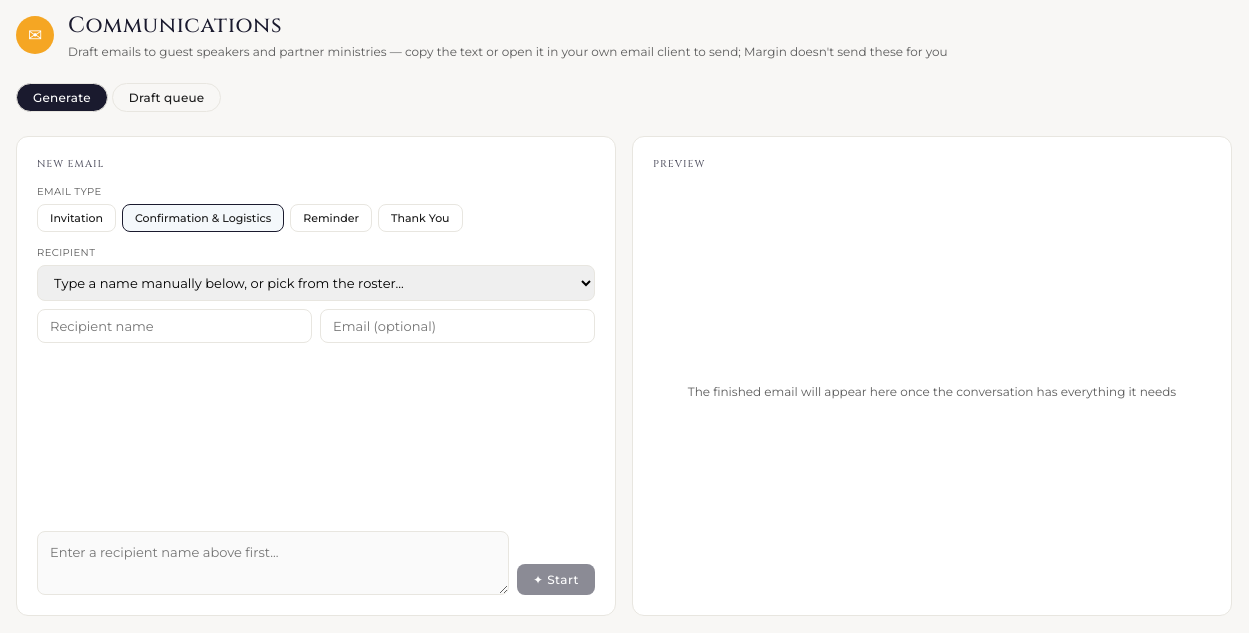
it: picking a person from the roster fills in their name and email
The image size is (1249, 633).
Select "Dr. Robert Rush III — Prophet" in the dropdown "Type a name manually" at (316, 283), box left=37, top=265, right=595, bottom=301
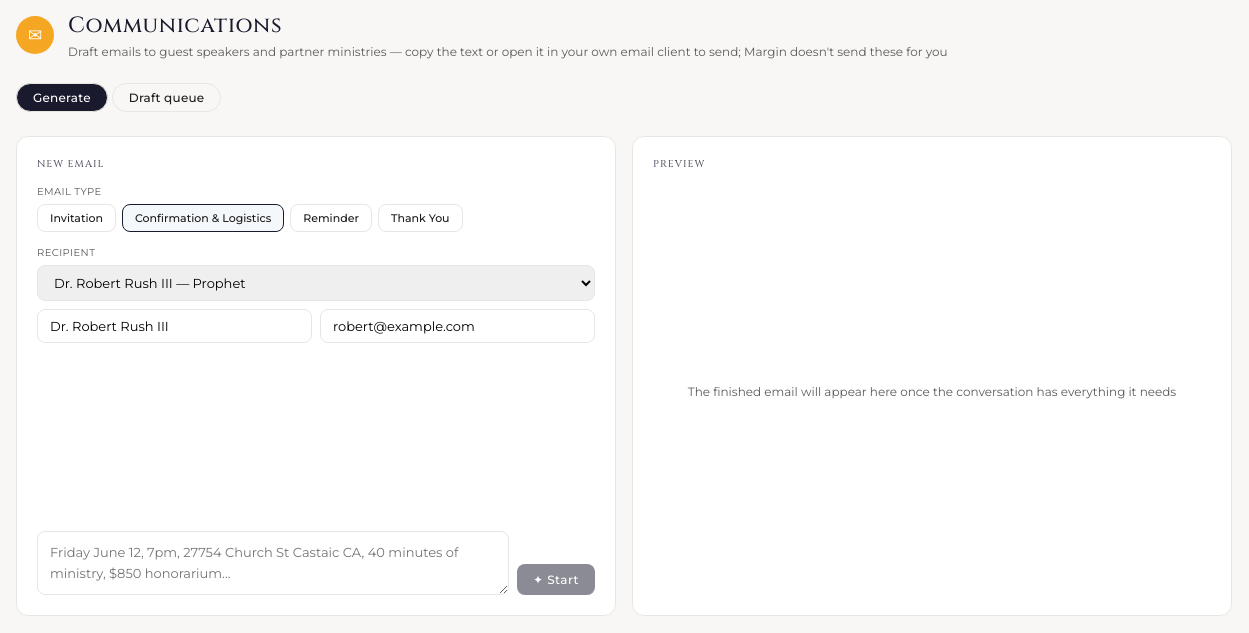
Check: the 1st field with placeholder "Recipient name" holds "Dr. Robert Rush III", box left=37, top=309, right=312, bottom=343
Check: the 2nd field with placeholder "Email (optional)" holds "robert@example.com", box left=320, top=309, right=595, bottom=343
